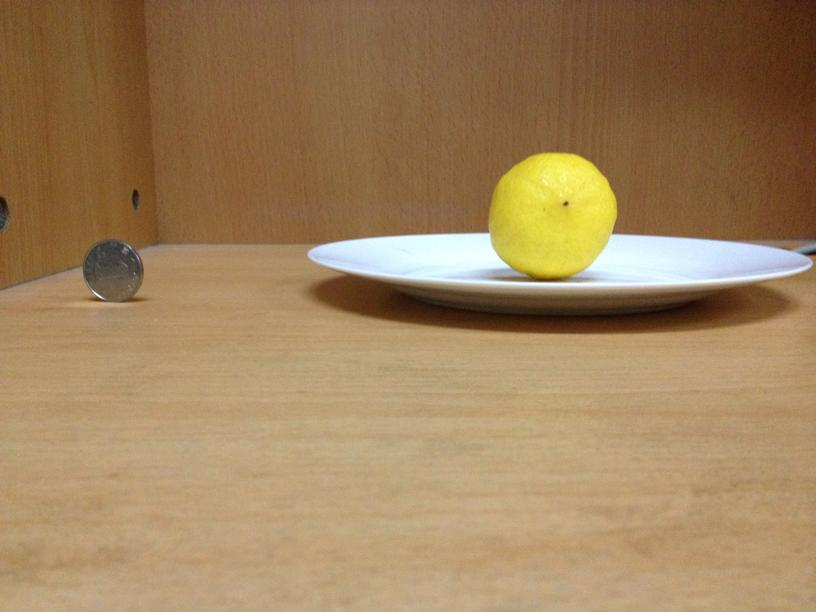coin: (80, 237, 142, 303)
lemon: (490, 156, 618, 282)
